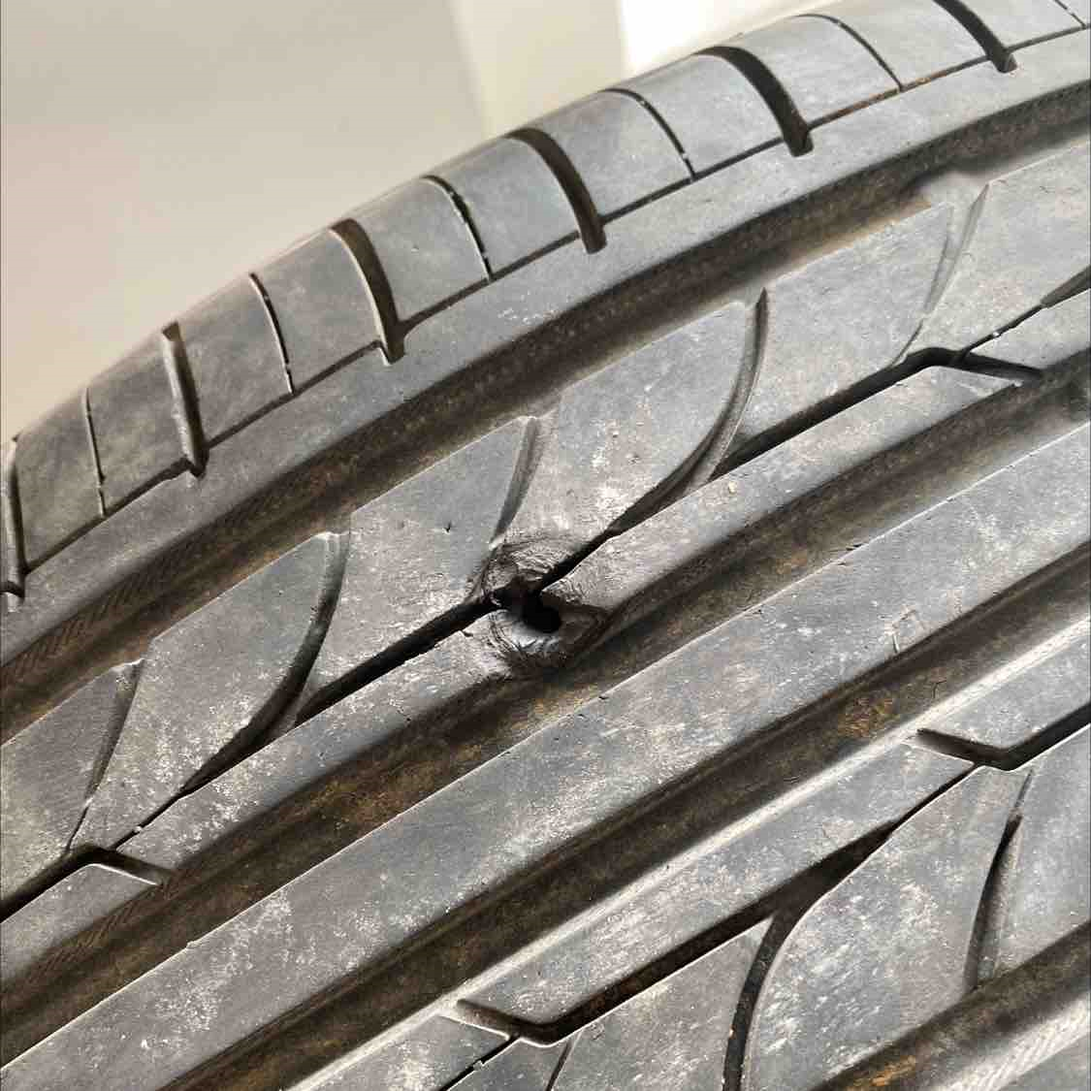tr: (483, 534, 614, 683)
